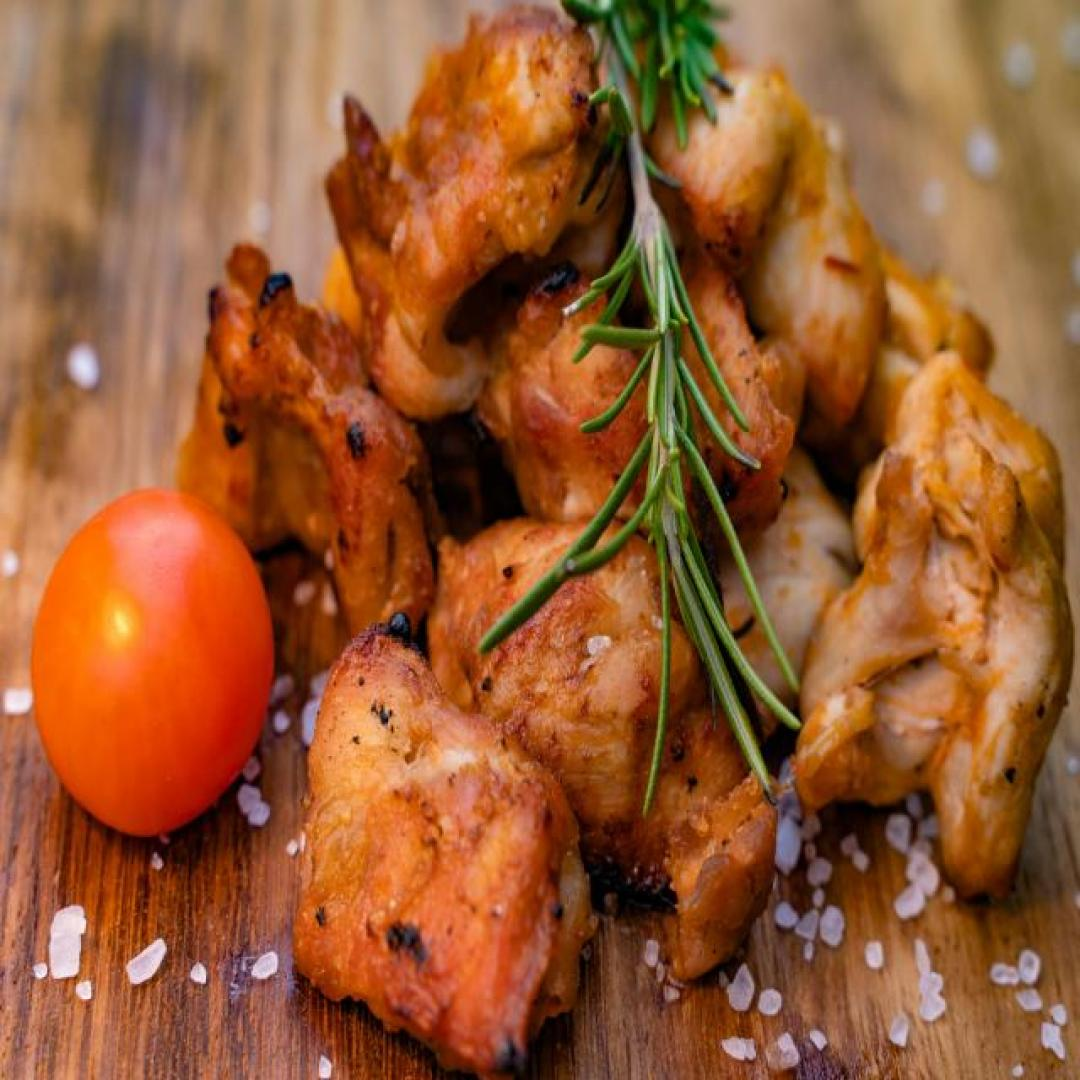matang: (30, 488, 277, 838)
